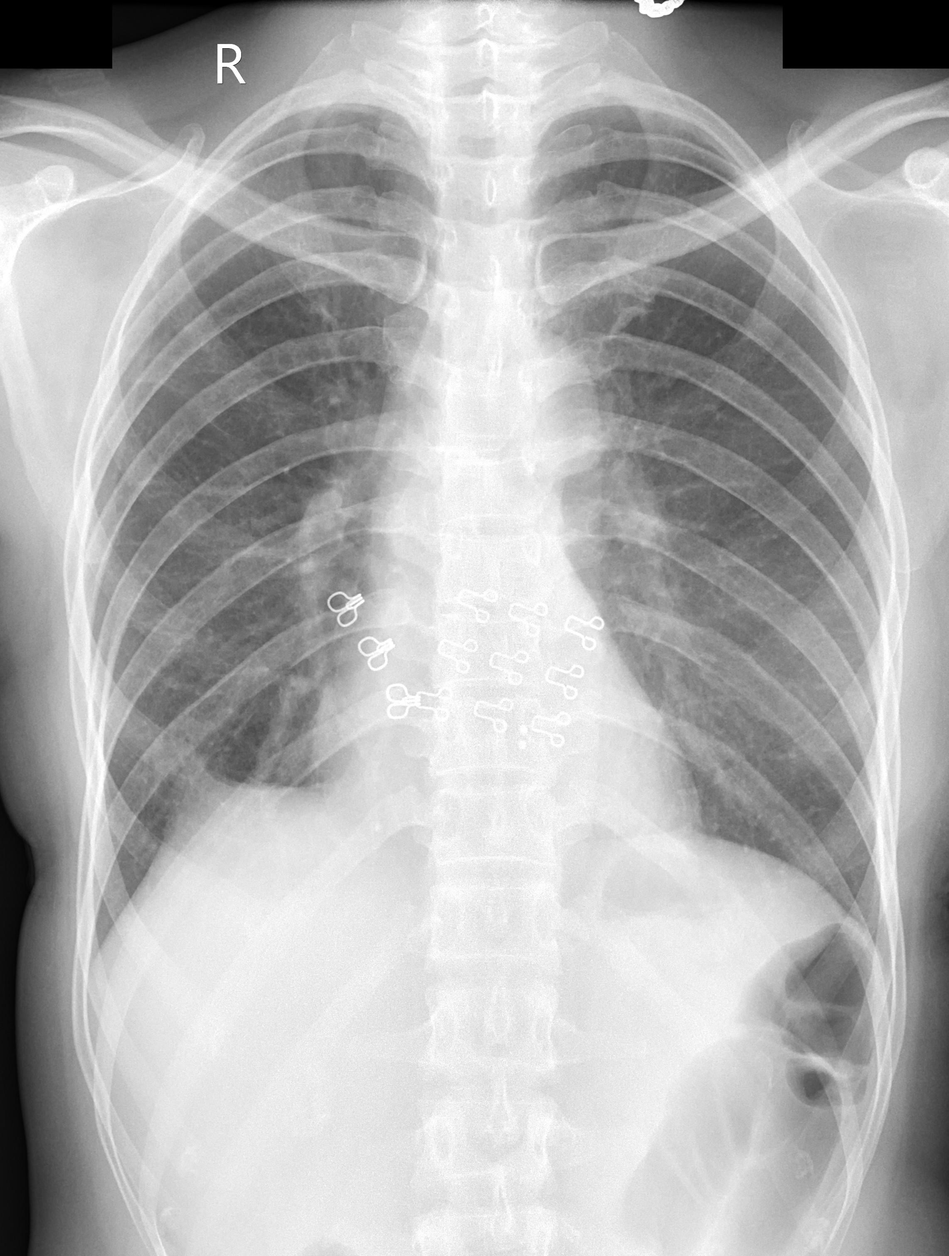Pleural thickening: (679, 118, 748, 171), (251, 100, 374, 117)
